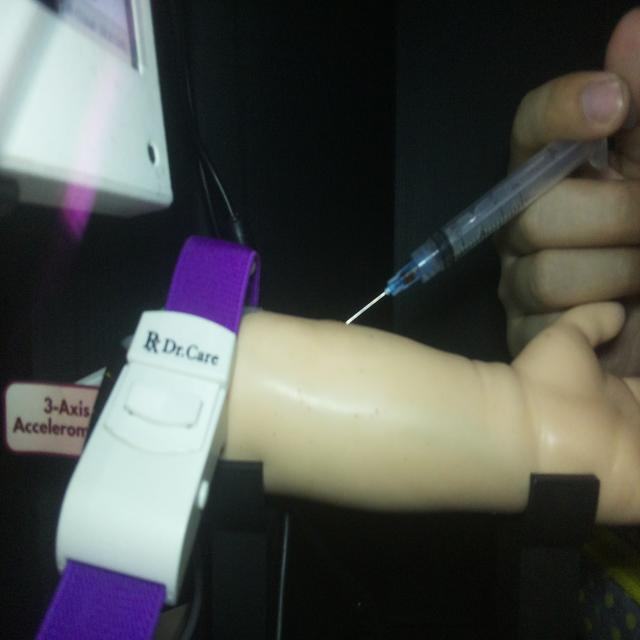29 degrees: (342, 129, 612, 327)
